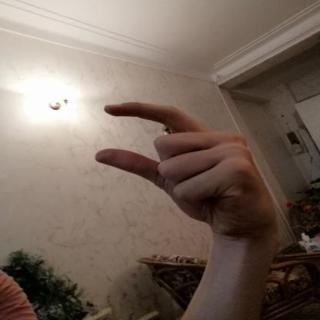DELL: (83, 92, 284, 243)
